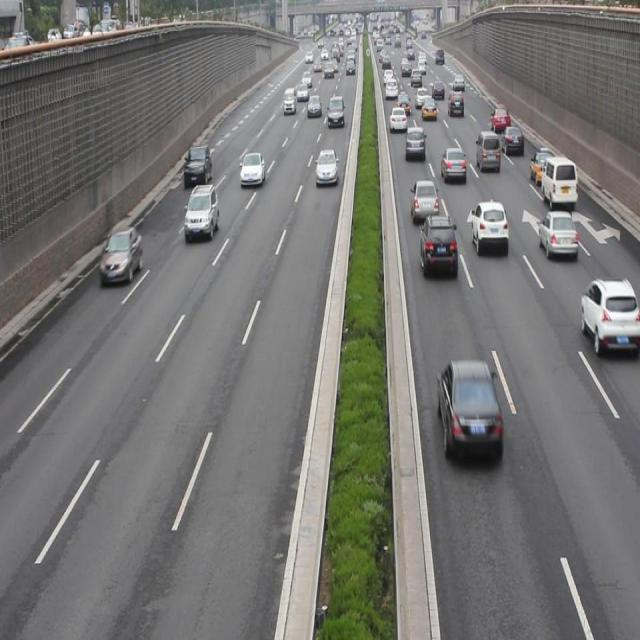car: (436, 357, 501, 457), (579, 275, 640, 356), (98, 225, 142, 282), (419, 212, 457, 276), (469, 199, 507, 255), (184, 182, 219, 241), (538, 208, 577, 258), (410, 178, 440, 226), (184, 142, 212, 188), (528, 148, 555, 189), (239, 149, 264, 188), (441, 145, 466, 183), (314, 146, 336, 187), (502, 122, 524, 157), (404, 123, 424, 158), (490, 104, 510, 134), (388, 104, 407, 134)
truck: (540, 154, 577, 206), (475, 129, 500, 171)
